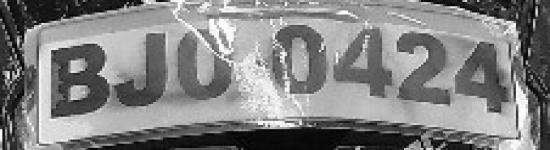0: (271, 25, 329, 93)
2: (397, 33, 451, 106)
4: (334, 30, 392, 96), (456, 41, 508, 113)
B: (50, 43, 110, 118)
J: (116, 32, 166, 106)
O: (178, 30, 232, 100)
